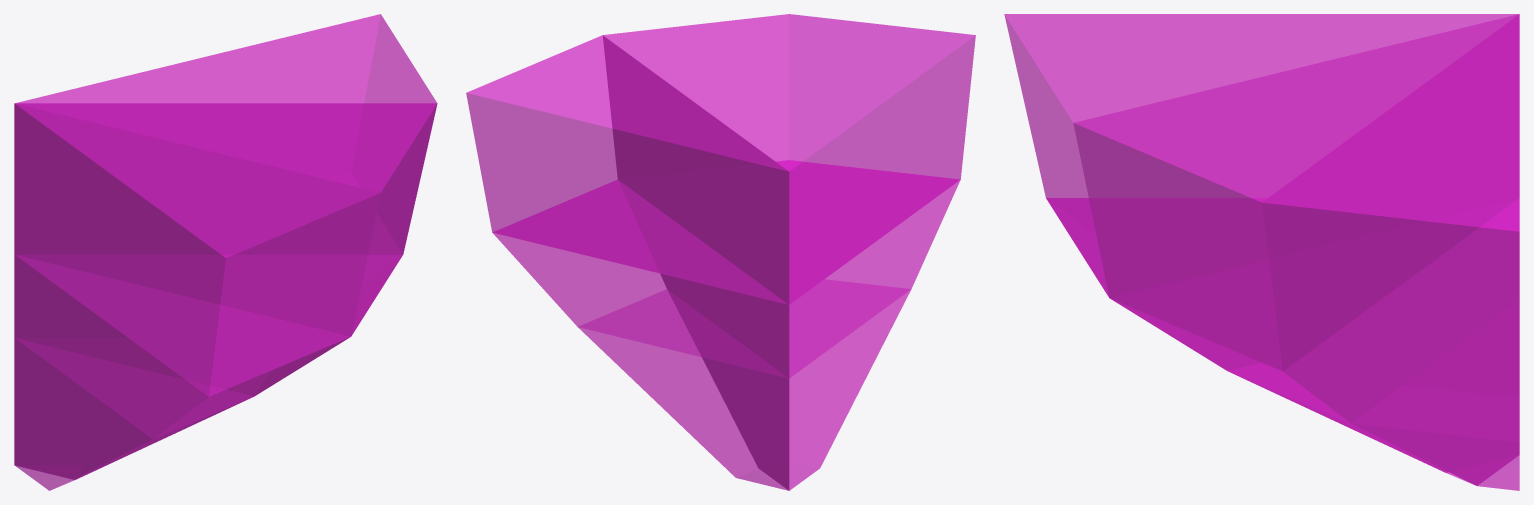
File: SM_Bld_Wall_L_Curve_Base_03_Collision.fbx
The picture shows the model from 3 angles, left to right: view 1: azimuth 30°, elevation 25°; view 2: azimuth 150°, elevation 25°; view 3: azimuth 270°, elevation 25°; orthographic projection. The views are drawn at different scales.
Visible parts, largest first — view 1: SM_Bld_Wall_L_Curve_Base_03_Collision; view 2: SM_Bld_Wall_L_Curve_Base_03_Collision; view 3: SM_Bld_Wall_L_Curve_Base_03_Collision.
Boxes of the visible parts, <box> form: SM_Bld_Wall_L_Curve_Base_03_Collision: <box>14,14,437,490</box>; SM_Bld_Wall_L_Curve_Base_03_Collision: <box>466,14,975,490</box>; SM_Bld_Wall_L_Curve_Base_03_Collision: <box>1004,14,1519,490</box>.
Bounding box in the file's own units: 418 × 395 × 418.
